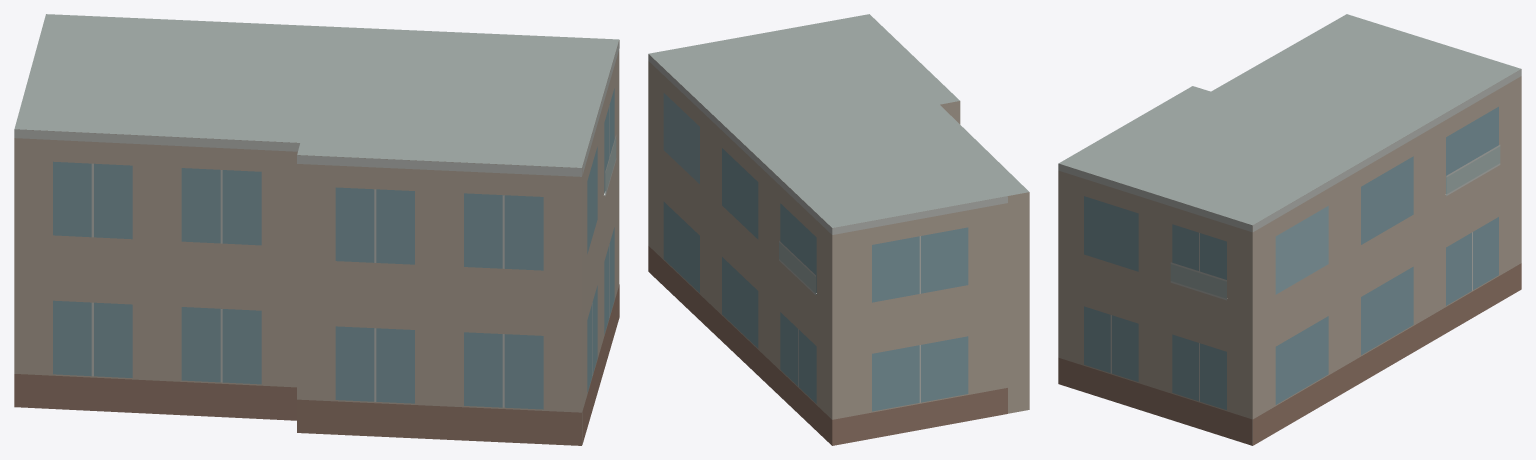
Rendered from survey-upis-32501010.glb.
3 renders of one model, left to right at view 1: azimuth 30°, elevation 25°; view 2: azimuth 150°, elevation 25°; view 3: azimuth 270°, elevation 25°, orthographic. The views are drawn at different scales.
Parts seen in each view (by area): view 1: survey-upis-32501010.tmp; view 2: survey-upis-32501010.tmp; view 3: survey-upis-32501010.tmp.
Boxes of the visible parts, x1,y1,x2,y2 form: survey-upis-32501010.tmp: (14,14,619,445); survey-upis-32501010.tmp: (648,14,1029,445); survey-upis-32501010.tmp: (1058,14,1521,445).
Size of the model in its own units: 15.63 by 7.6 by 14.47.
